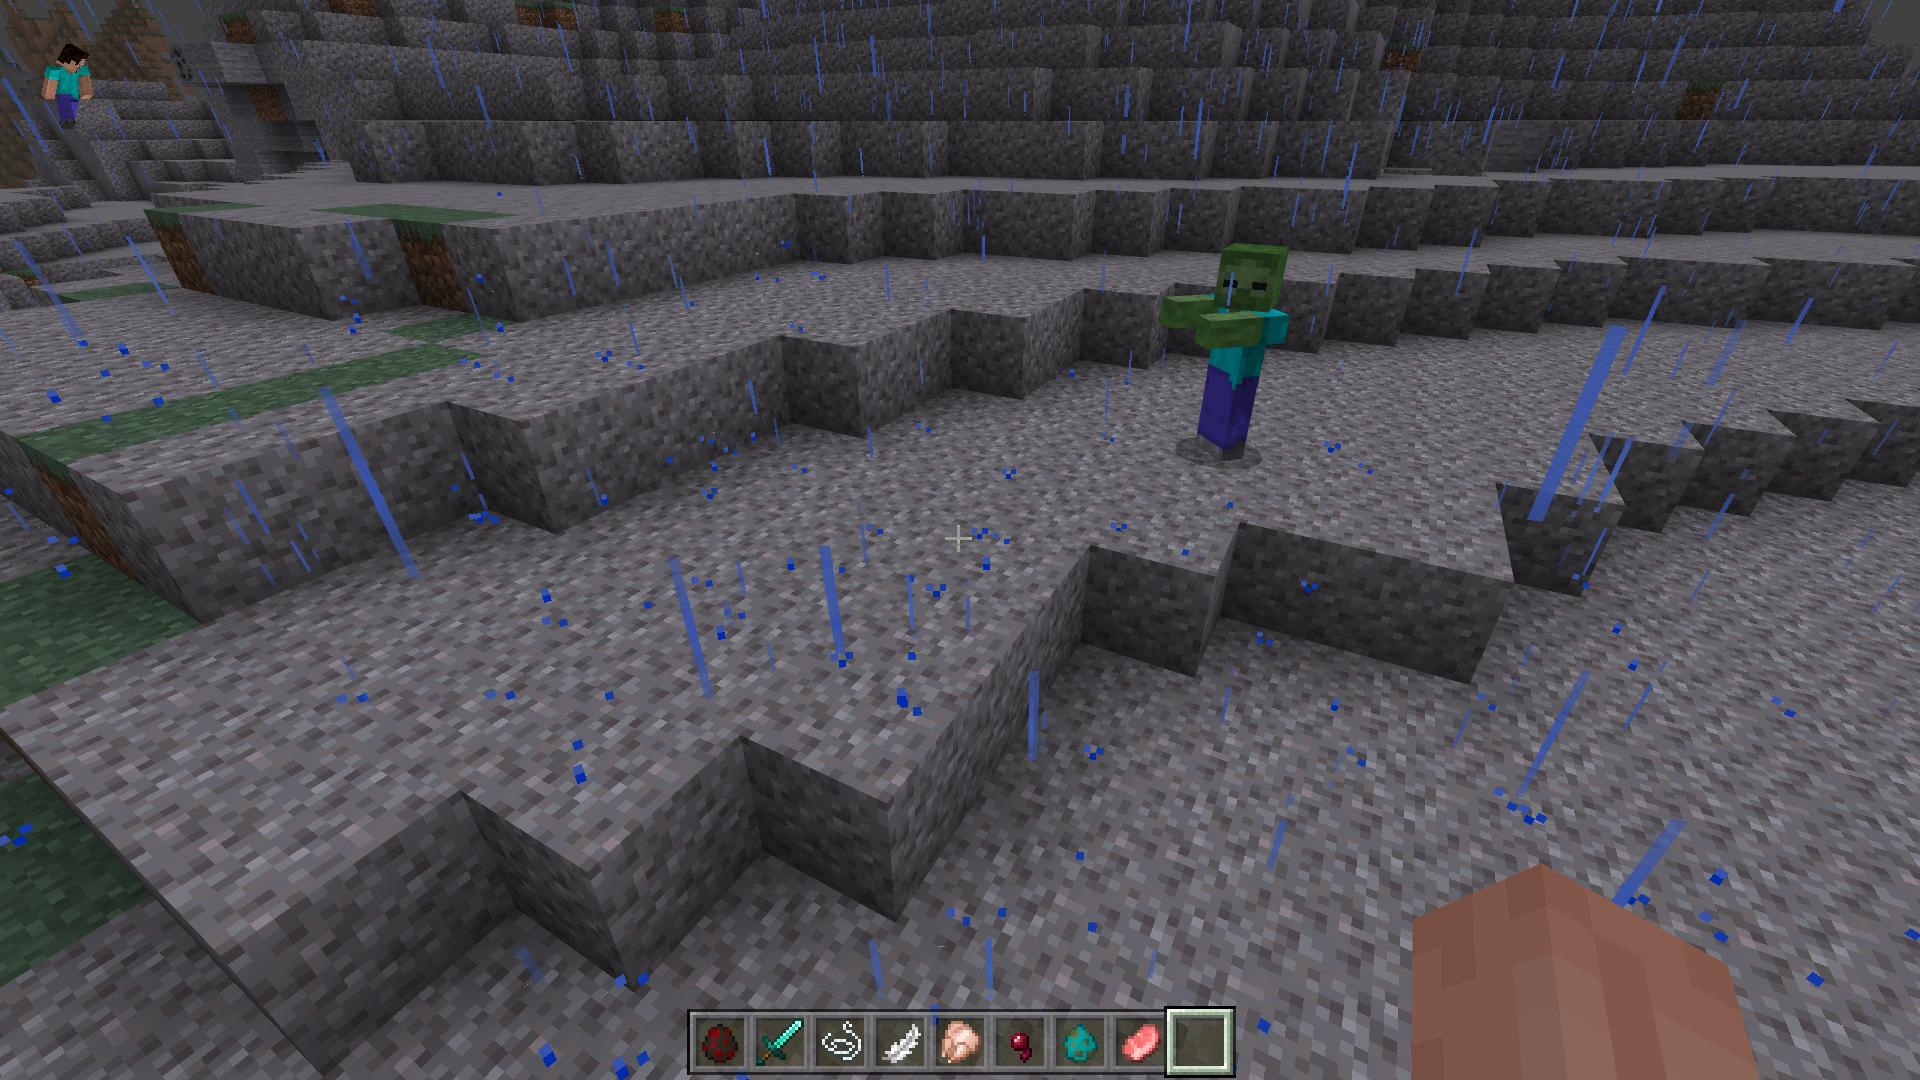zombie: (1163, 240, 1294, 460)
